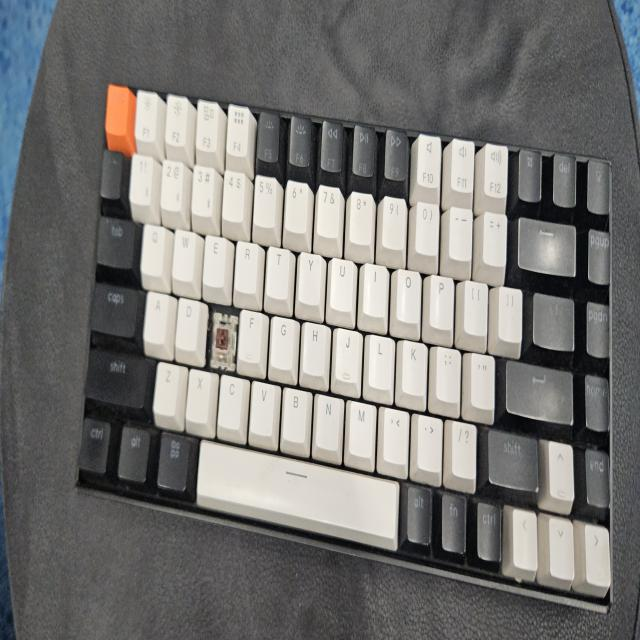C: (214, 312, 229, 364)
